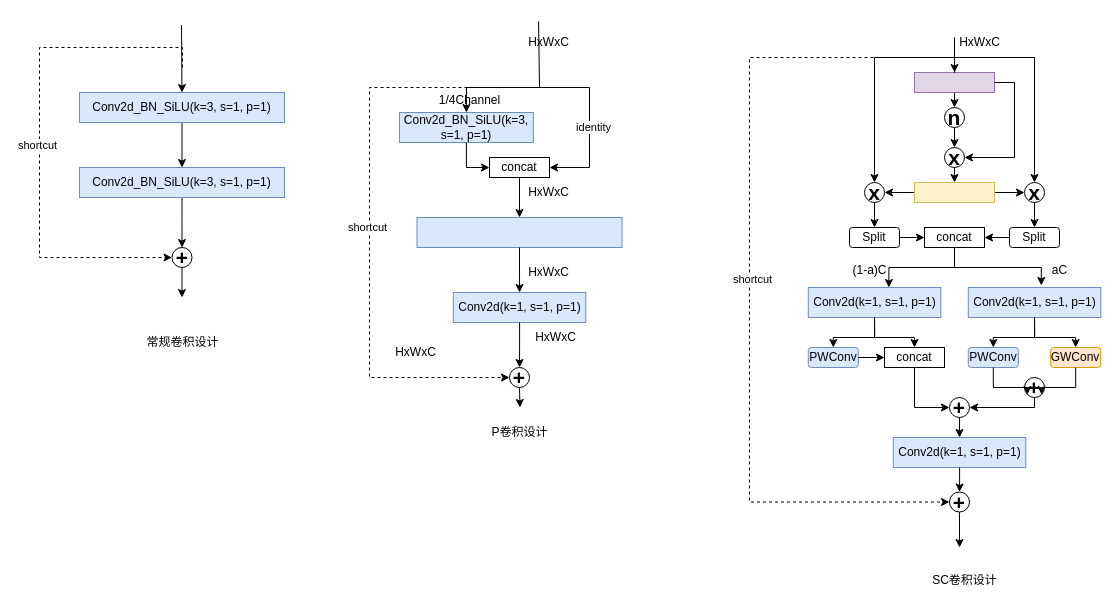
Image size: 1118x612. Some labels were removed from this diagram. Here are the shapes that lost their labels. From the top down, the centre of each, then its label:
At [954,82]: "GroudNormal".
At [954,192]: "Sigmoid".
At [519,232]: "Conv2d_BN_SiLU(k=1, s=1, p=1)".
